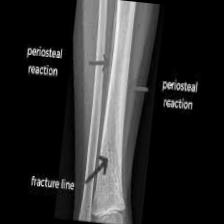spiral-fracture: (54, 0, 159, 224)
